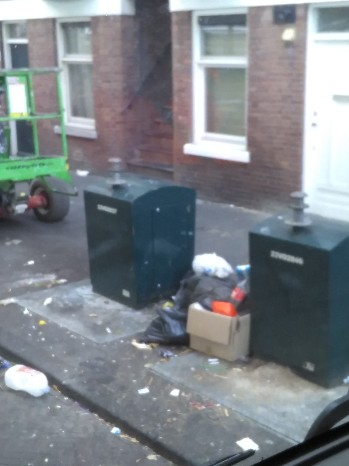Container: (258, 226, 349, 372), (85, 179, 173, 314)
Papier: (194, 305, 247, 356)
Rest: (142, 266, 240, 349)
